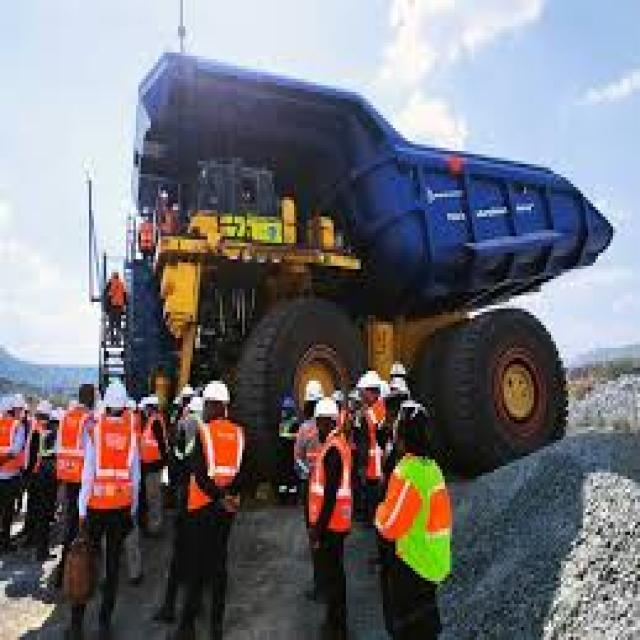dump_truck: (77, 39, 618, 522)
